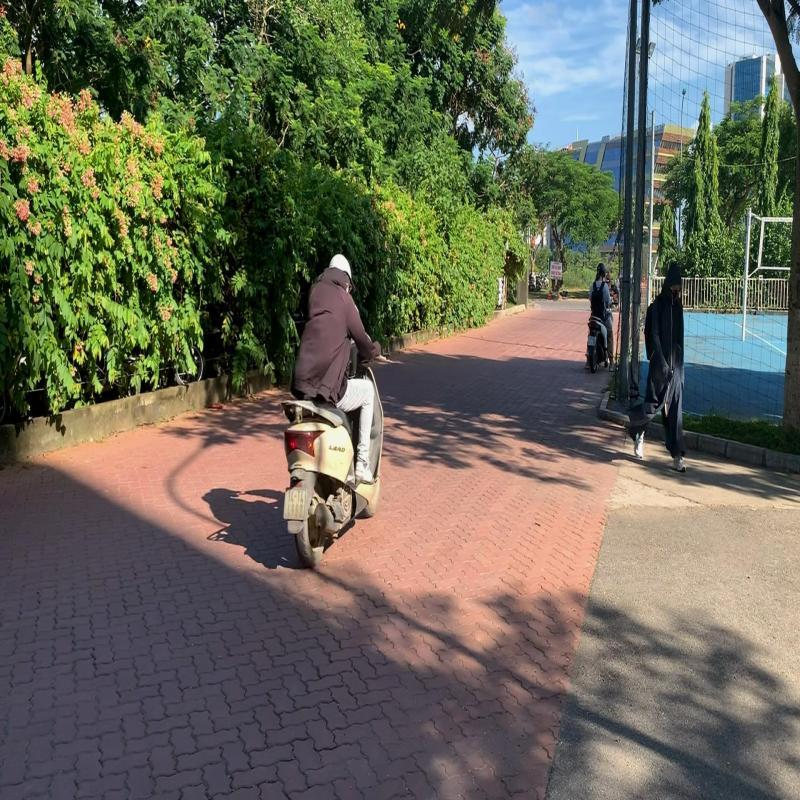helmet: (325, 250, 356, 296)
licenseplate: (282, 487, 310, 523)
motorcyclist: (279, 246, 390, 575)
